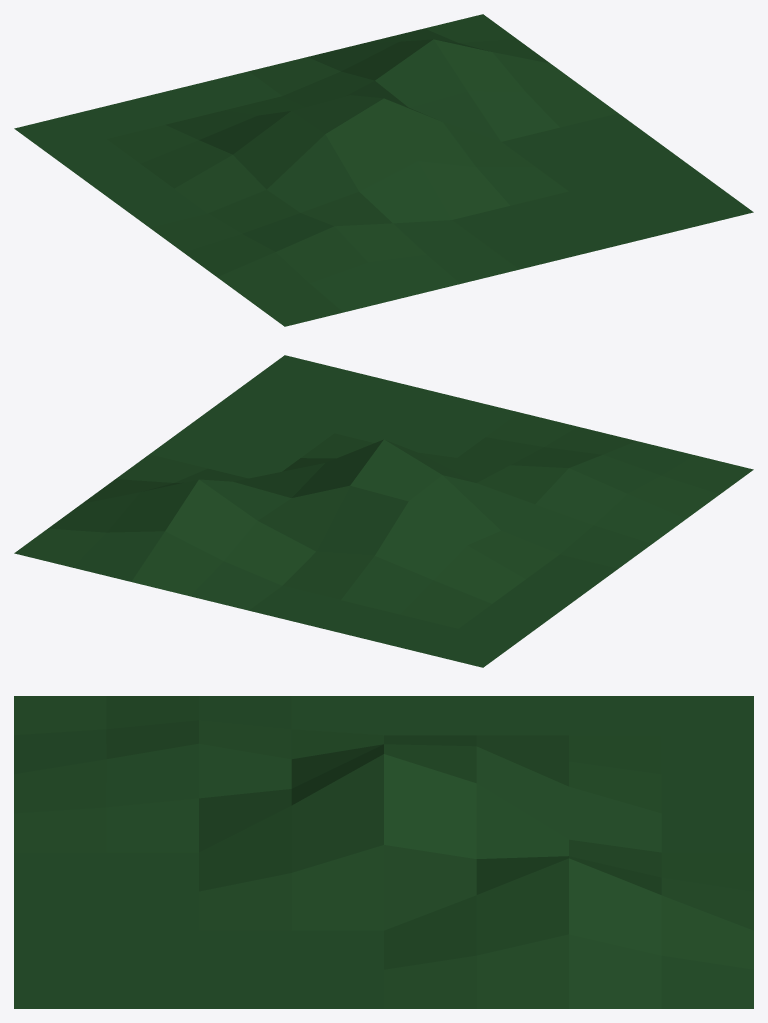
File: Terrain_2_Dark_Green.fbx
The picture shows the model from 3 angles, top to bottom: view 1: azimuth 30°, elevation 25°; view 2: azimuth 150°, elevation 25°; view 3: azimuth 270°, elevation 25°; orthographic projection. The views are drawn at different scales.
Parts seen in each view (by area): view 1: Terrain_2_Dark_Green; view 2: Terrain_2_Dark_Green; view 3: Terrain_2_Dark_Green.
Part boxes in pixels (left/top/right/bottom): Terrain_2_Dark_Green: left=14, top=14, right=753, bottom=326; Terrain_2_Dark_Green: left=14, top=355, right=753, bottom=667; Terrain_2_Dark_Green: left=14, top=696, right=753, bottom=1008.
Bounding box in the file's own units: 2000 × 294 × 2000.
